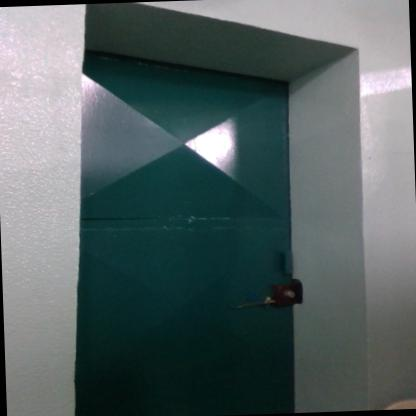closed: (59, 47, 337, 415)
